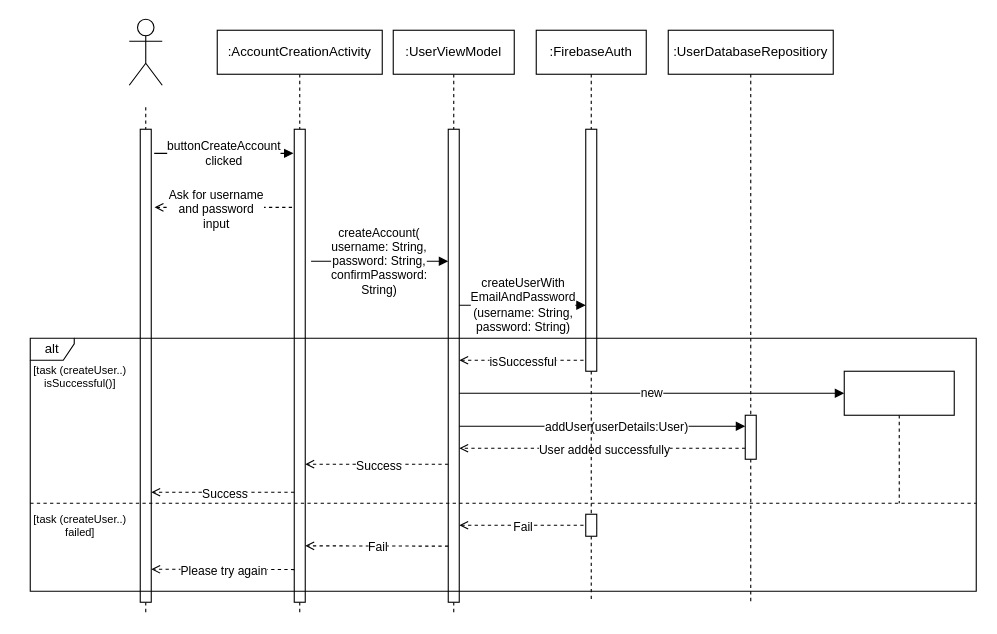
This 997x634 diagram has some shape labels left out. The shapes that lost their labels are listed below. From the top down, each one's box as (x1, y1, x2, y2) in pixels, then its label:
(128, 18, 162, 85): User
(843, 370, 954, 415): userDetails:User
